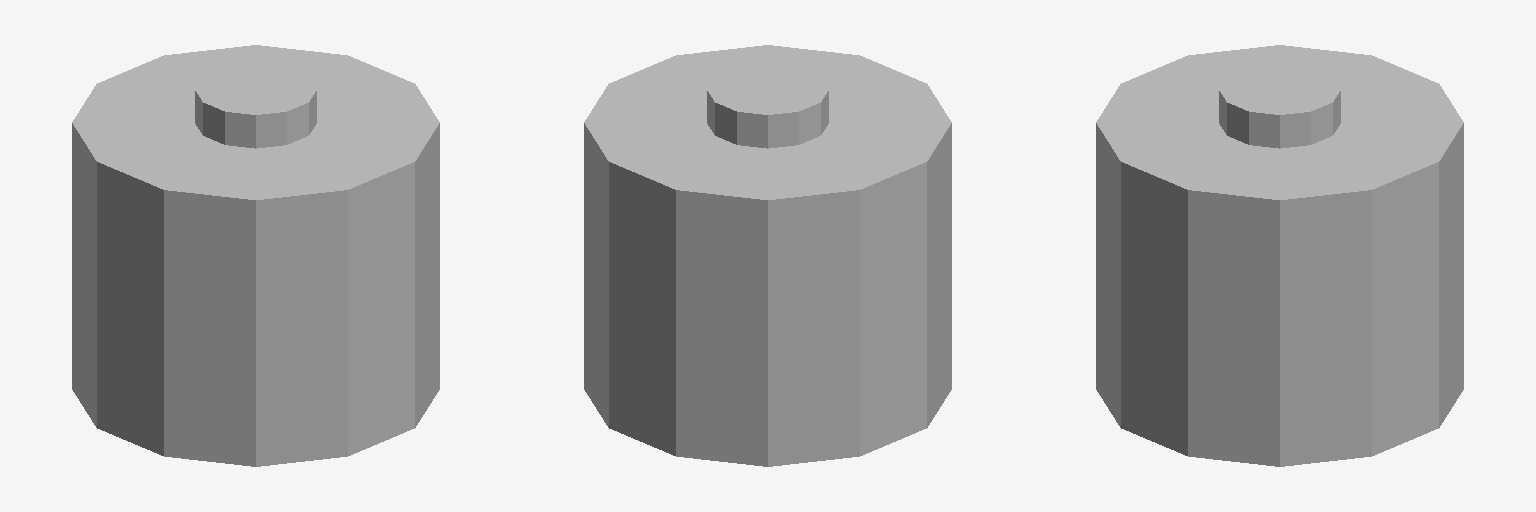
The model's file is block_spring_1_3.obj.
3 views of the same model, side by side, from view 1: azimuth 30°, elevation 25°; view 2: azimuth 150°, elevation 25°; view 3: azimuth 270°, elevation 25° (orthographic).
Visible parts, largest first — view 1: Shaft_B, Shaft_A; view 2: Shaft_B, Shaft_A; view 3: Shaft_B, Shaft_A.
Boxes of the visible parts, x1,y1,x2,y2 form: Shaft_B: [72, 45, 439, 466]; Shaft_A: [195, 63, 316, 148]; Shaft_B: [584, 45, 951, 466]; Shaft_A: [707, 63, 828, 148]; Shaft_B: [1096, 45, 1463, 466]; Shaft_A: [1219, 63, 1340, 148].
Bounding box in the file's own units: 0.3 × 0.3 × 0.3.